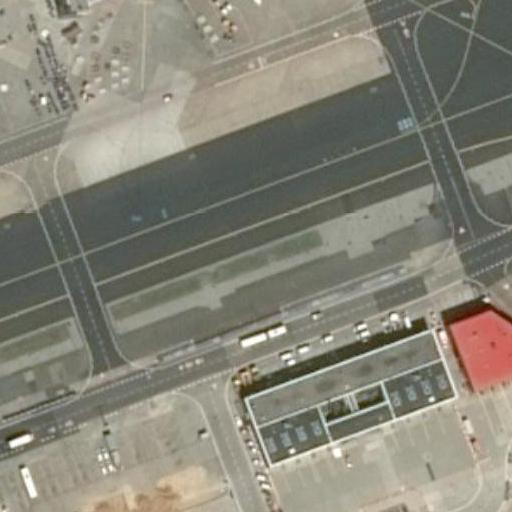Aircraft: (179, 0, 369, 10)
